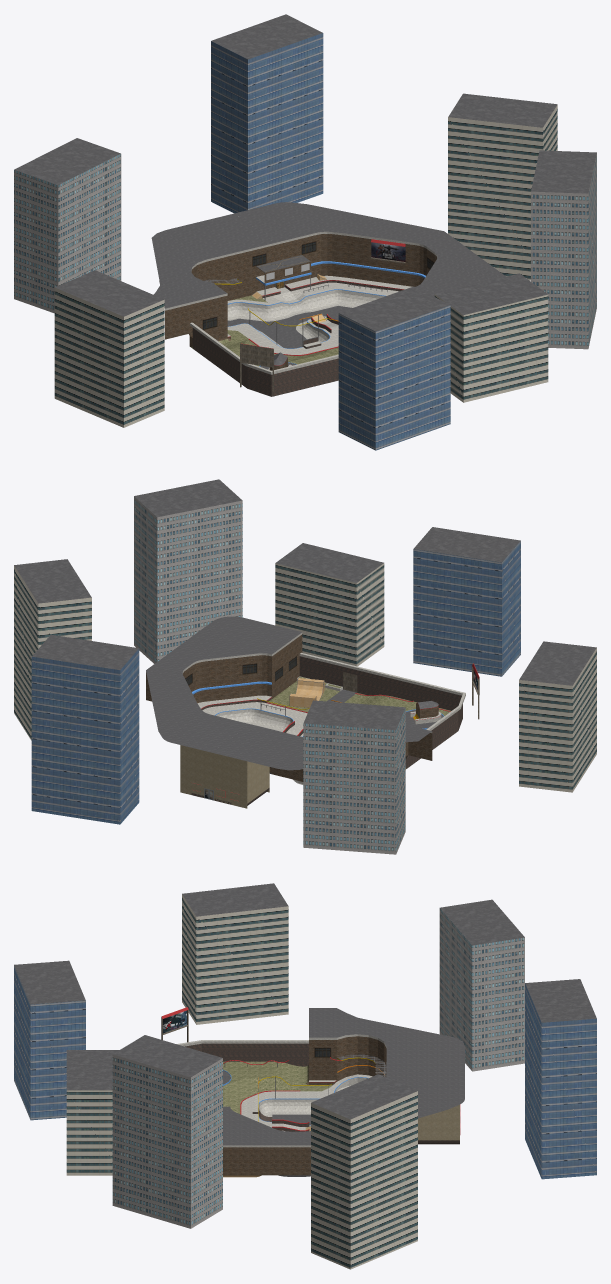
The model's file is urbnprk.fbx.
The picture shows the model from 3 angles, top to bottom: view 1: azimuth 30°, elevation 25°; view 2: azimuth 150°, elevation 25°; view 3: azimuth 270°, elevation 25°; orthographic projection. The views are drawn at different scales.
Visible parts, largest first — view 1: Cube.001, Plane; view 2: Cube.001, Plane; view 3: Cube.001, Plane.
Boxes of the visible parts, box(x1,y1,x2,y2) form: Cube.001: box(14, 14, 596, 450); Plane: box(151, 202, 505, 396); Cube.001: box(14, 479, 596, 854); Plane: box(146, 616, 479, 808); Cube.001: box(14, 883, 596, 1269); Plane: box(161, 1007, 465, 1177).
Bounding box in the file's own units: 32573 × 10726 × 31140.
